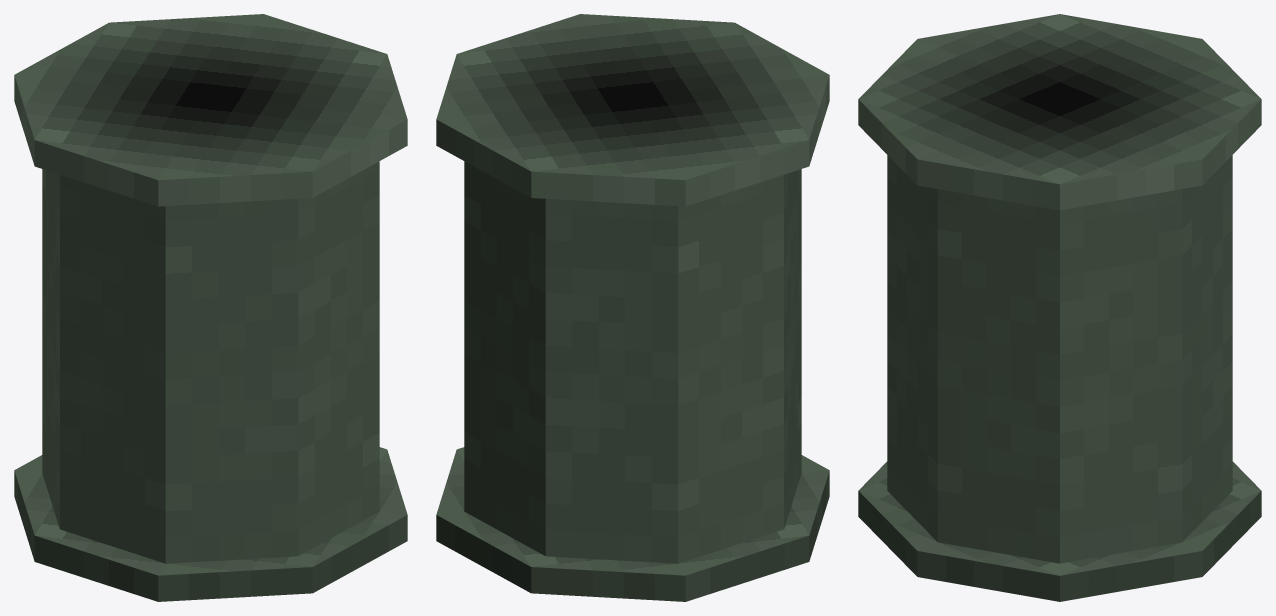
Rendered from pipe_rim_green.obj.
3 renders of one model, left to right at view 1: azimuth 30°, elevation 25°; view 2: azimuth 150°, elevation 25°; view 3: azimuth 270°, elevation 25°, orthographic.
Visible parts, largest first — view 1: Side, Top; view 2: Side, Top; view 3: Side, Top.
Boxes of the visible parts, box(x1,y1,x2,y2) form: Side: box(14, 75, 407, 601); Top: box(14, 14, 407, 575); Side: box(436, 75, 829, 601); Top: box(436, 14, 829, 575); Side: box(858, 99, 1261, 601); Top: box(858, 14, 1261, 575).
Size of the model in its own units: 0.875 by 1 by 0.875.
